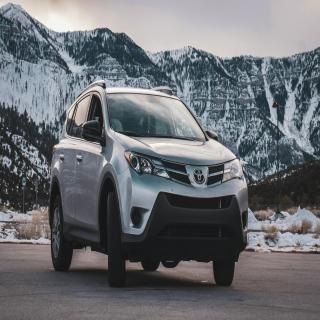Normal_vehicle: (48, 79, 250, 291)
